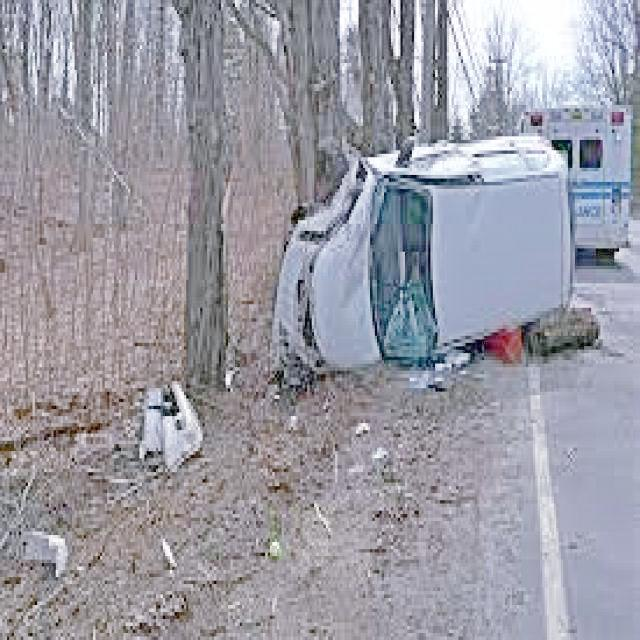Car: (283, 132, 582, 378)
Major Accident: (277, 129, 577, 379)
